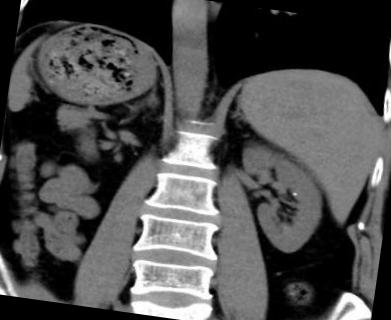Tas_Var: (292, 190, 298, 196)
